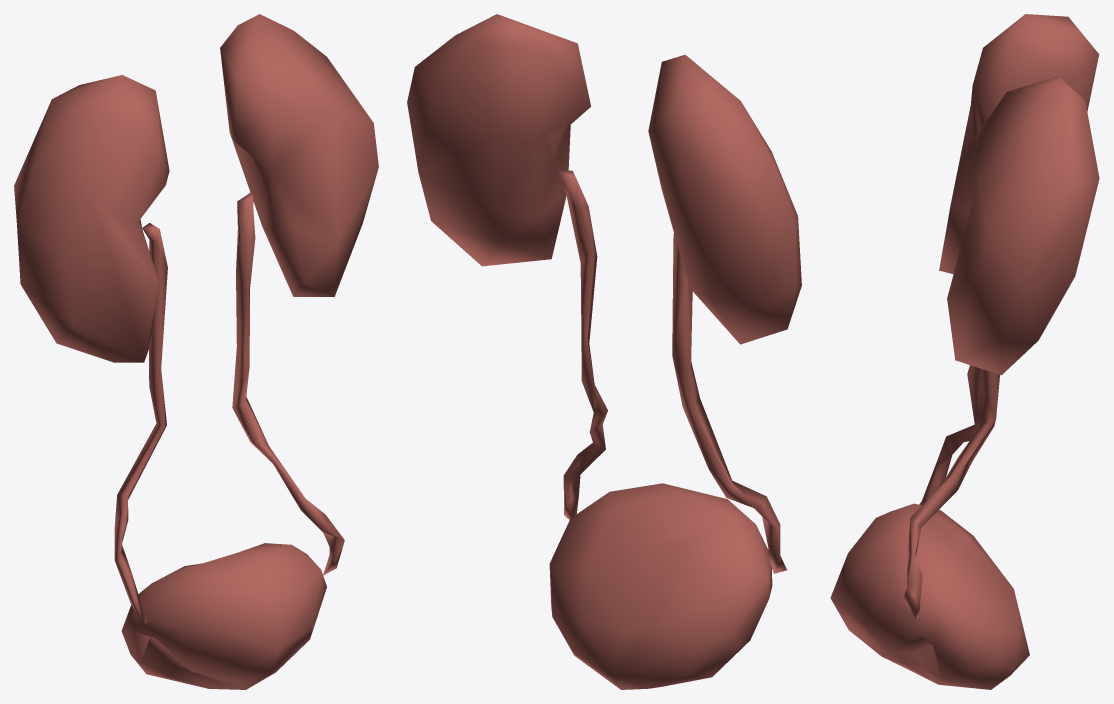
The model's file is pediatric_infant_male.urinary.LOD3.glb.
3 views of the same model, side by side, from view 1: azimuth 30°, elevation 25°; view 2: azimuth 150°, elevation 25°; view 3: azimuth 270°, elevation 25° (orthographic). The views are drawn at different scales.
Parts seen in each view (by area): view 1: PEDIATRIC.INFANT.MALE.URINARY.KIDNEY_CORTEX.R, PEDIATRIC.INFANT.MALE.URINARY.KIDNEY_CORTEX.L, PEDIATRIC.INFANT.MALE.URINARY.URINARY_BLADDER_WALL, PEDIATRIC.INFANT.MALE.URINARY.URETER.L, PEDIATRIC.INFANT.MALE.URINARY.URETER.R; view 2: PEDIATRIC.INFANT.MALE.URINARY.URINARY_BLADDER_WALL, PEDIATRIC.INFANT.MALE.URINARY.KIDNEY_CORTEX.L, PEDIATRIC.INFANT.MALE.URINARY.KIDNEY_CORTEX.R, PEDIATRIC.INFANT.MALE.URINARY.URETER.R, PEDIATRIC.INFANT.MALE.URINARY.URETER.L; view 3: PEDIATRIC.INFANT.MALE.URINARY.KIDNEY_CORTEX.L, PEDIATRIC.INFANT.MALE.URINARY.URINARY_BLADDER_WALL, PEDIATRIC.INFANT.MALE.URINARY.KIDNEY_CORTEX.R, PEDIATRIC.INFANT.MALE.URINARY.URETER.L, PEDIATRIC.INFANT.MALE.URINARY.URETER.R.
Boxes of the visible parts, <box> form: PEDIATRIC.INFANT.MALE.URINARY.KIDNEY_CORTEX.R: <box>14,75,169,362</box>; PEDIATRIC.INFANT.MALE.URINARY.KIDNEY_CORTEX.L: <box>220,14,378,296</box>; PEDIATRIC.INFANT.MALE.URINARY.URINARY_BLADDER_WALL: <box>121,543,326,689</box>; PEDIATRIC.INFANT.MALE.URINARY.URETER.L: <box>232,191,344,575</box>; PEDIATRIC.INFANT.MALE.URINARY.URETER.R: <box>114,223,167,623</box>; PEDIATRIC.INFANT.MALE.URINARY.URINARY_BLADDER_WALL: <box>549,483,772,689</box>; PEDIATRIC.INFANT.MALE.URINARY.KIDNEY_CORTEX.L: <box>407,14,590,266</box>; PEDIATRIC.INFANT.MALE.URINARY.KIDNEY_CORTEX.R: <box>648,54,801,344</box>; PEDIATRIC.INFANT.MALE.URINARY.URETER.R: <box>672,233,786,573</box>; PEDIATRIC.INFANT.MALE.URINARY.URETER.L: <box>557,170,607,519</box>; PEDIATRIC.INFANT.MALE.URINARY.KIDNEY_CORTEX.L: <box>947,76,1099,375</box>; PEDIATRIC.INFANT.MALE.URINARY.URINARY_BLADDER_WALL: <box>830,503,1029,689</box>; PEDIATRIC.INFANT.MALE.URINARY.KIDNEY_CORTEX.R: <box>939,14,1099,274</box>; PEDIATRIC.INFANT.MALE.URINARY.URETER.L: <box>902,369,999,618</box>; PEDIATRIC.INFANT.MALE.URINARY.URETER.R: <box>919,365,982,505</box>.
Bounding box in the file's own units: 0.0974 × 0.1662 × 0.0628.
